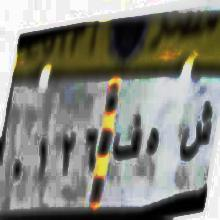0: (10, 148, 28, 186)
1: (36, 129, 50, 189)
2: (56, 126, 78, 187)
6: (82, 117, 100, 185)
faa: (112, 108, 143, 169)
haa: (141, 125, 164, 161)
sheen: (182, 93, 212, 168)
